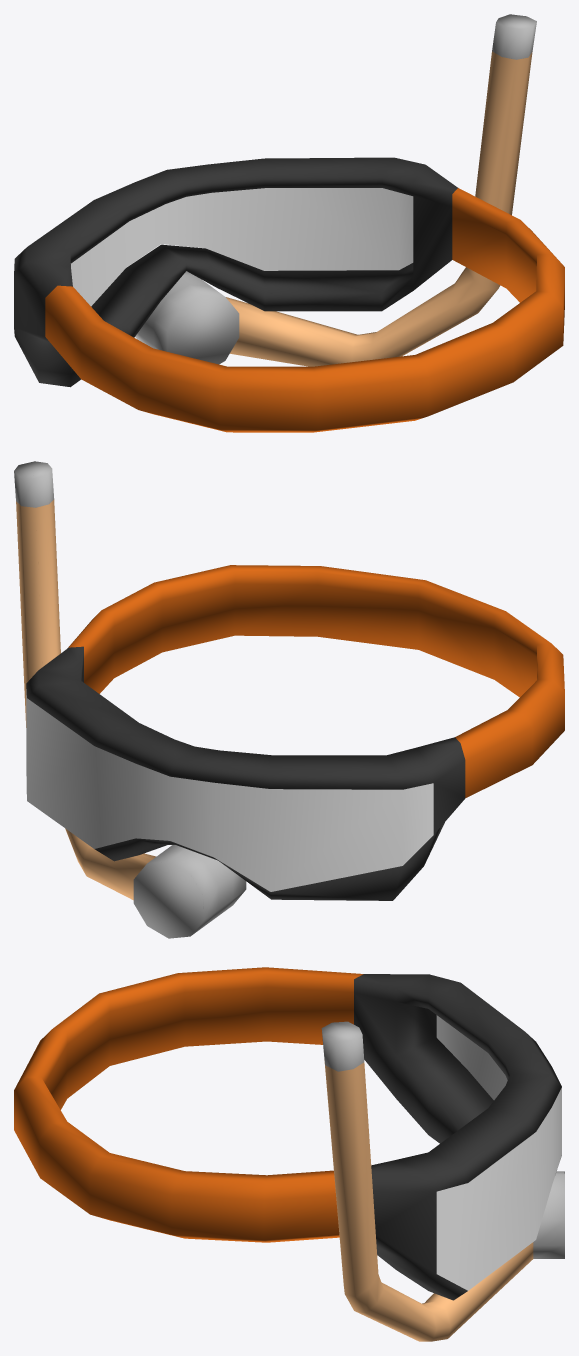
Rendered from Snorkel.glb.
3 renders of one model, top to bottom at view 1: azimuth 30°, elevation 25°; view 2: azimuth 150°, elevation 25°; view 3: azimuth 270°, elevation 25°, orthographic. The views are drawn at different scales.
Parts seen in each view (by area): view 1: Snorkel; view 2: Snorkel; view 3: Snorkel.
Part boxes in pixels (x1,y1,x2,y2): Snorkel: (14, 14, 564, 432); Snorkel: (14, 461, 564, 938); Snorkel: (14, 967, 564, 1341).
Bounding box in the file's own units: 0.6243 × 0.436 × 0.5924.
2 materials, 1 textured.
